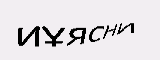О: (112, 14, 137, 37)
П: (29, 12, 50, 39)
Т: (71, 12, 83, 34)
Ш: (47, 12, 70, 34)
Щ: (83, 13, 112, 39)
